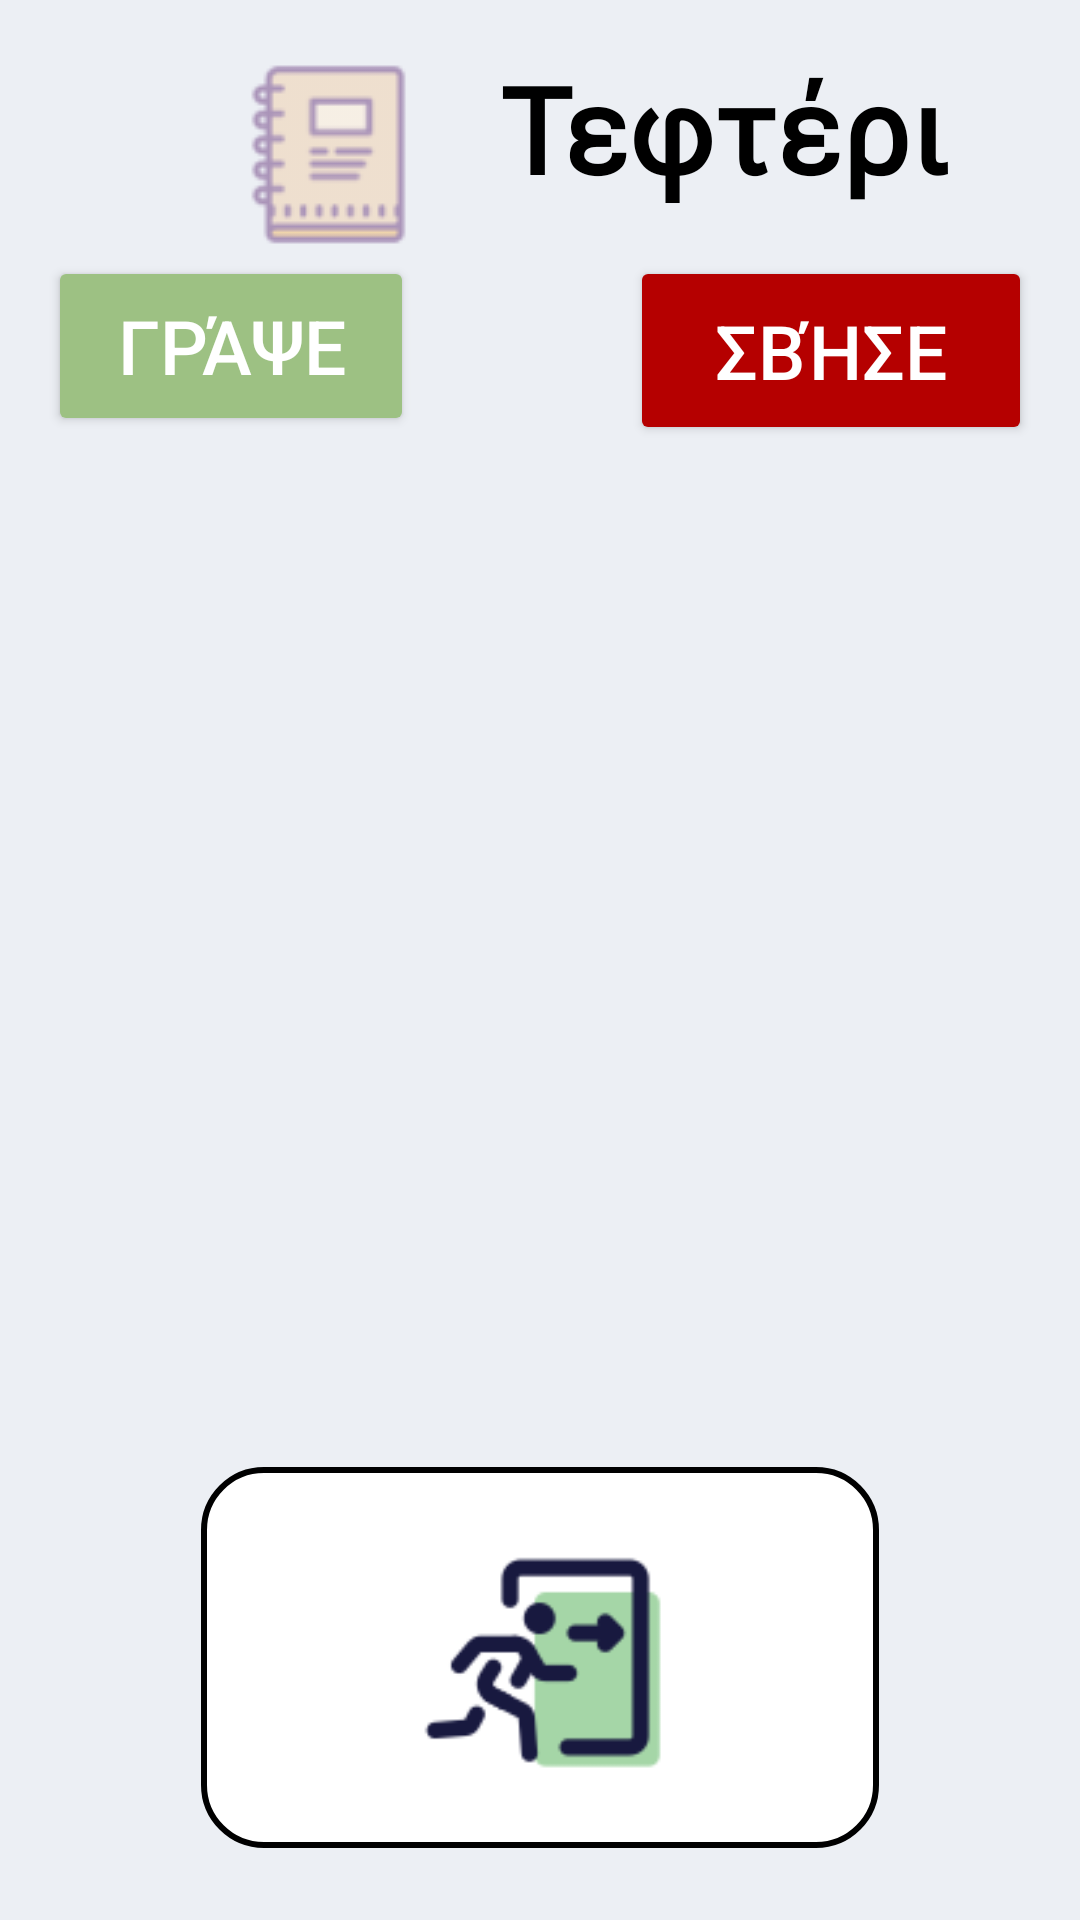

Where icons sit on this 1080px×1920px app screen, as (x1, y1, x2, y2):
header image: (252, 65, 405, 244)
